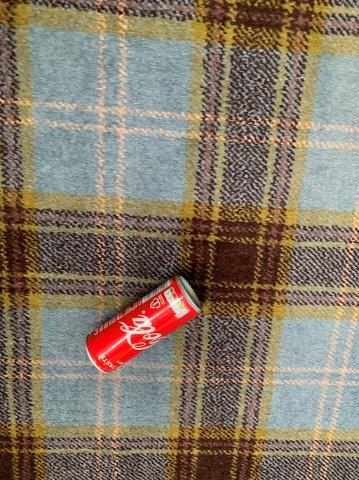kaleng: (87, 276, 200, 373)
